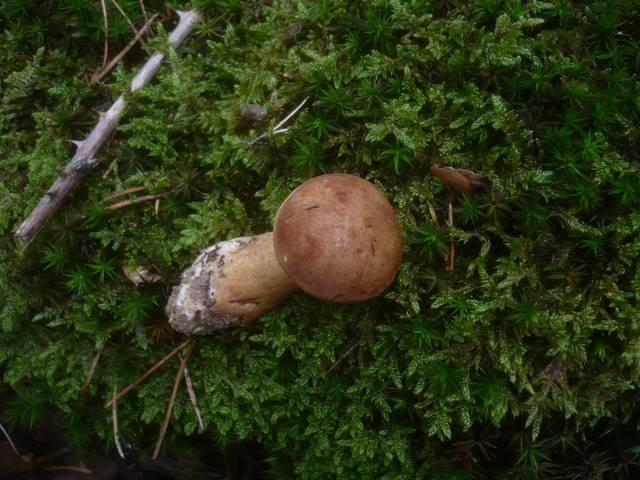poisonous_mushroom: (271, 171, 403, 304), (163, 230, 299, 337)
